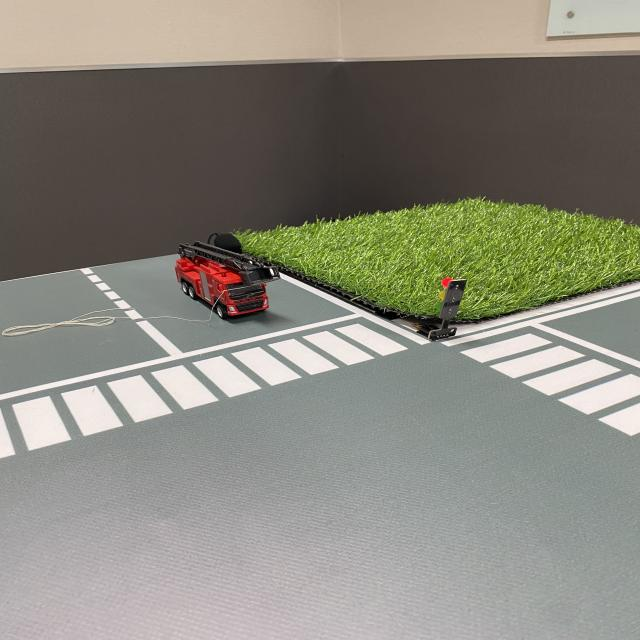Fire Truck: (170, 237, 283, 324)
